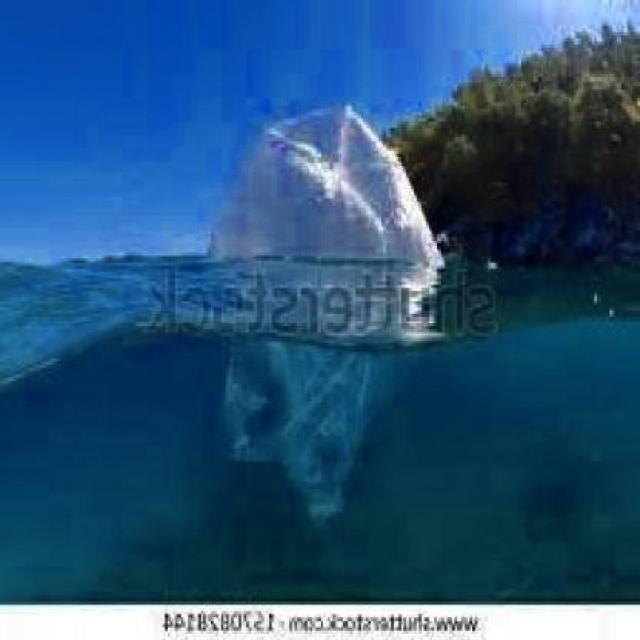pbag: (210, 100, 444, 528)
